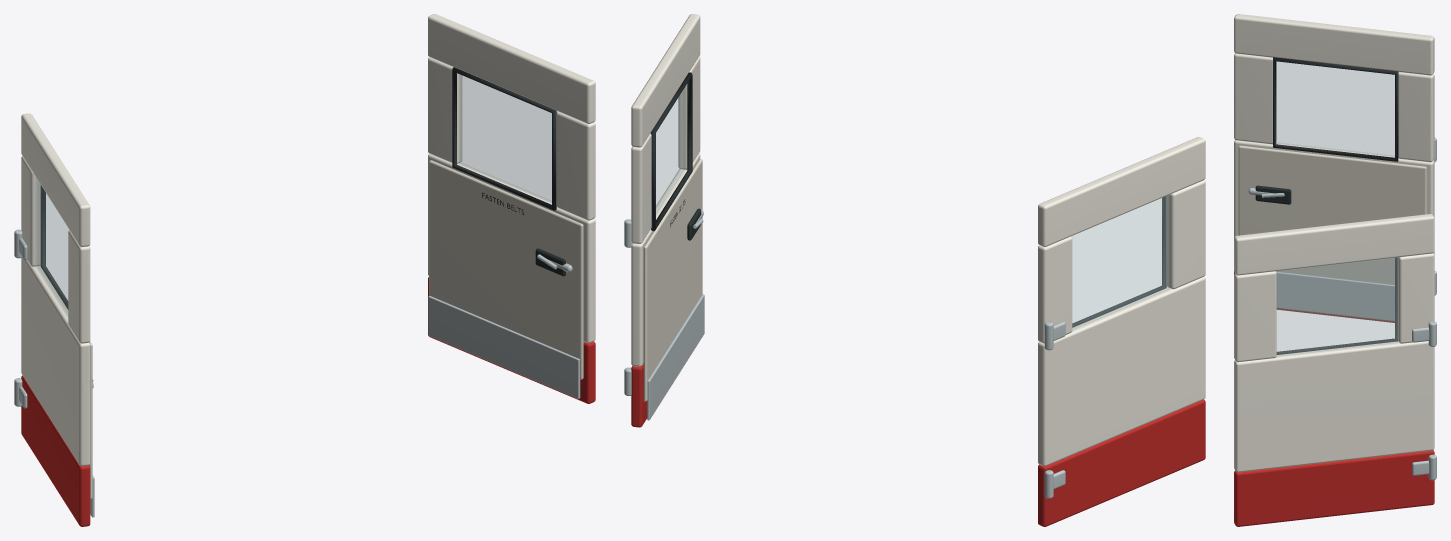
File: BraunOpenDoors.fbx
3 views of the same model, side by side, from view 1: azimuth 30°, elevation 25°; view 2: azimuth 150°, elevation 25°; view 3: azimuth 270°, elevation 25° (orthographic). The views are drawn at different scales.
Visible parts, largest first — view 1: BraunOpenDoors; view 2: BraunOpenDoors; view 3: BraunOpenDoors.
Part boxes in pixels (x1,y1,x2,y2): BraunOpenDoors: [14, 14, 595, 526]; BraunOpenDoors: [624, 14, 1205, 526]; BraunOpenDoors: [1234, 14, 1436, 526].
Bounding box in the file's own units: 302 × 180 × 114.
